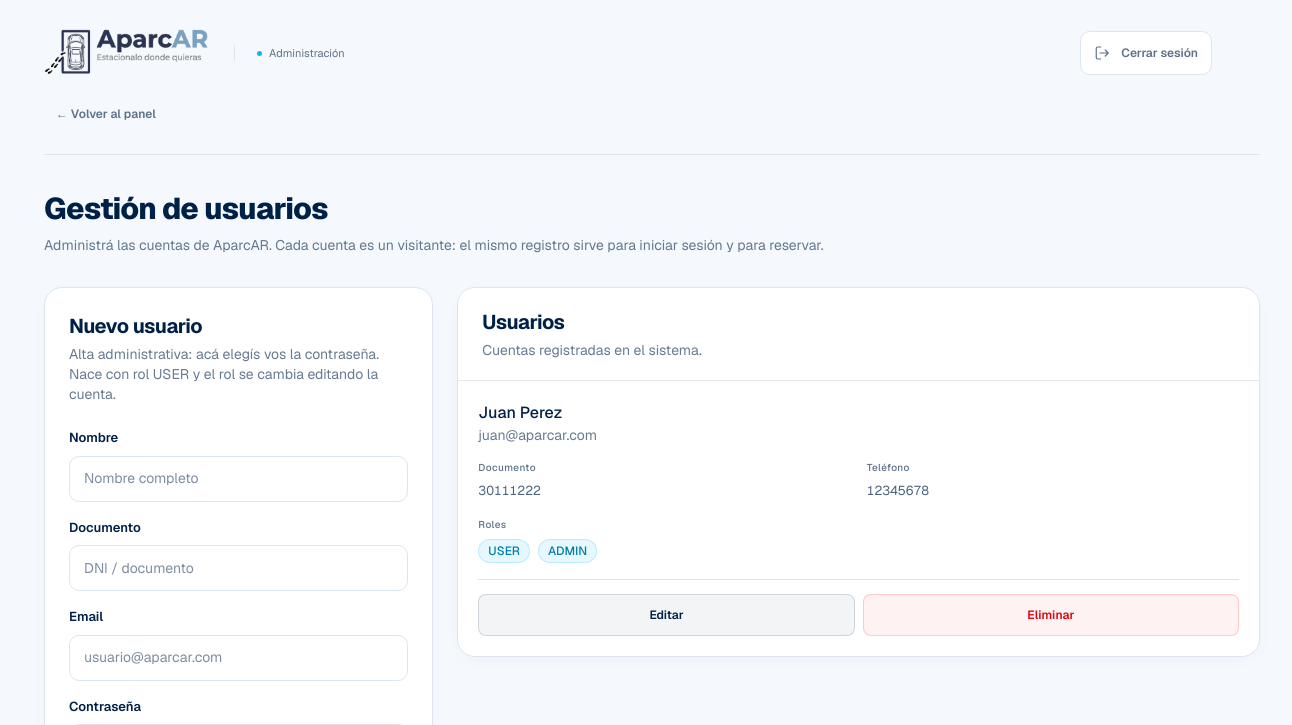
Test: UserManagement › al editar, precarga nombre, telefono y los roles marcados
The width and height of the screenshot is (1292, 725).
Check: the text "Juan Perez" is shown, box [478, 402, 562, 423]
Step 1. Click the button "Editar" → (666, 615), box [478, 594, 855, 636]
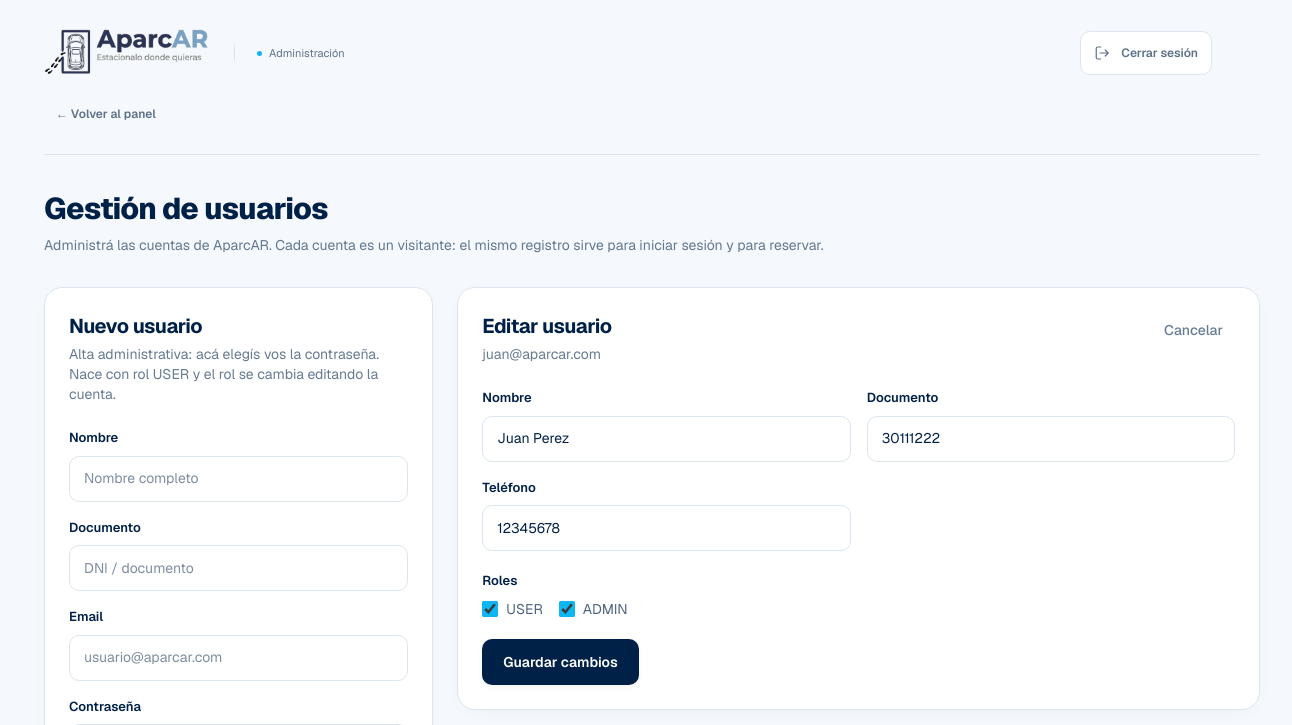
Check: the field showing "Juan Perez" below "Editar usuario" is shown, box [482, 416, 851, 462]
Check: the field showing "12345678" is shown, box [482, 505, 851, 551]
Check: the checkbox labelled "USER" is checked, box [482, 600, 498, 616]
